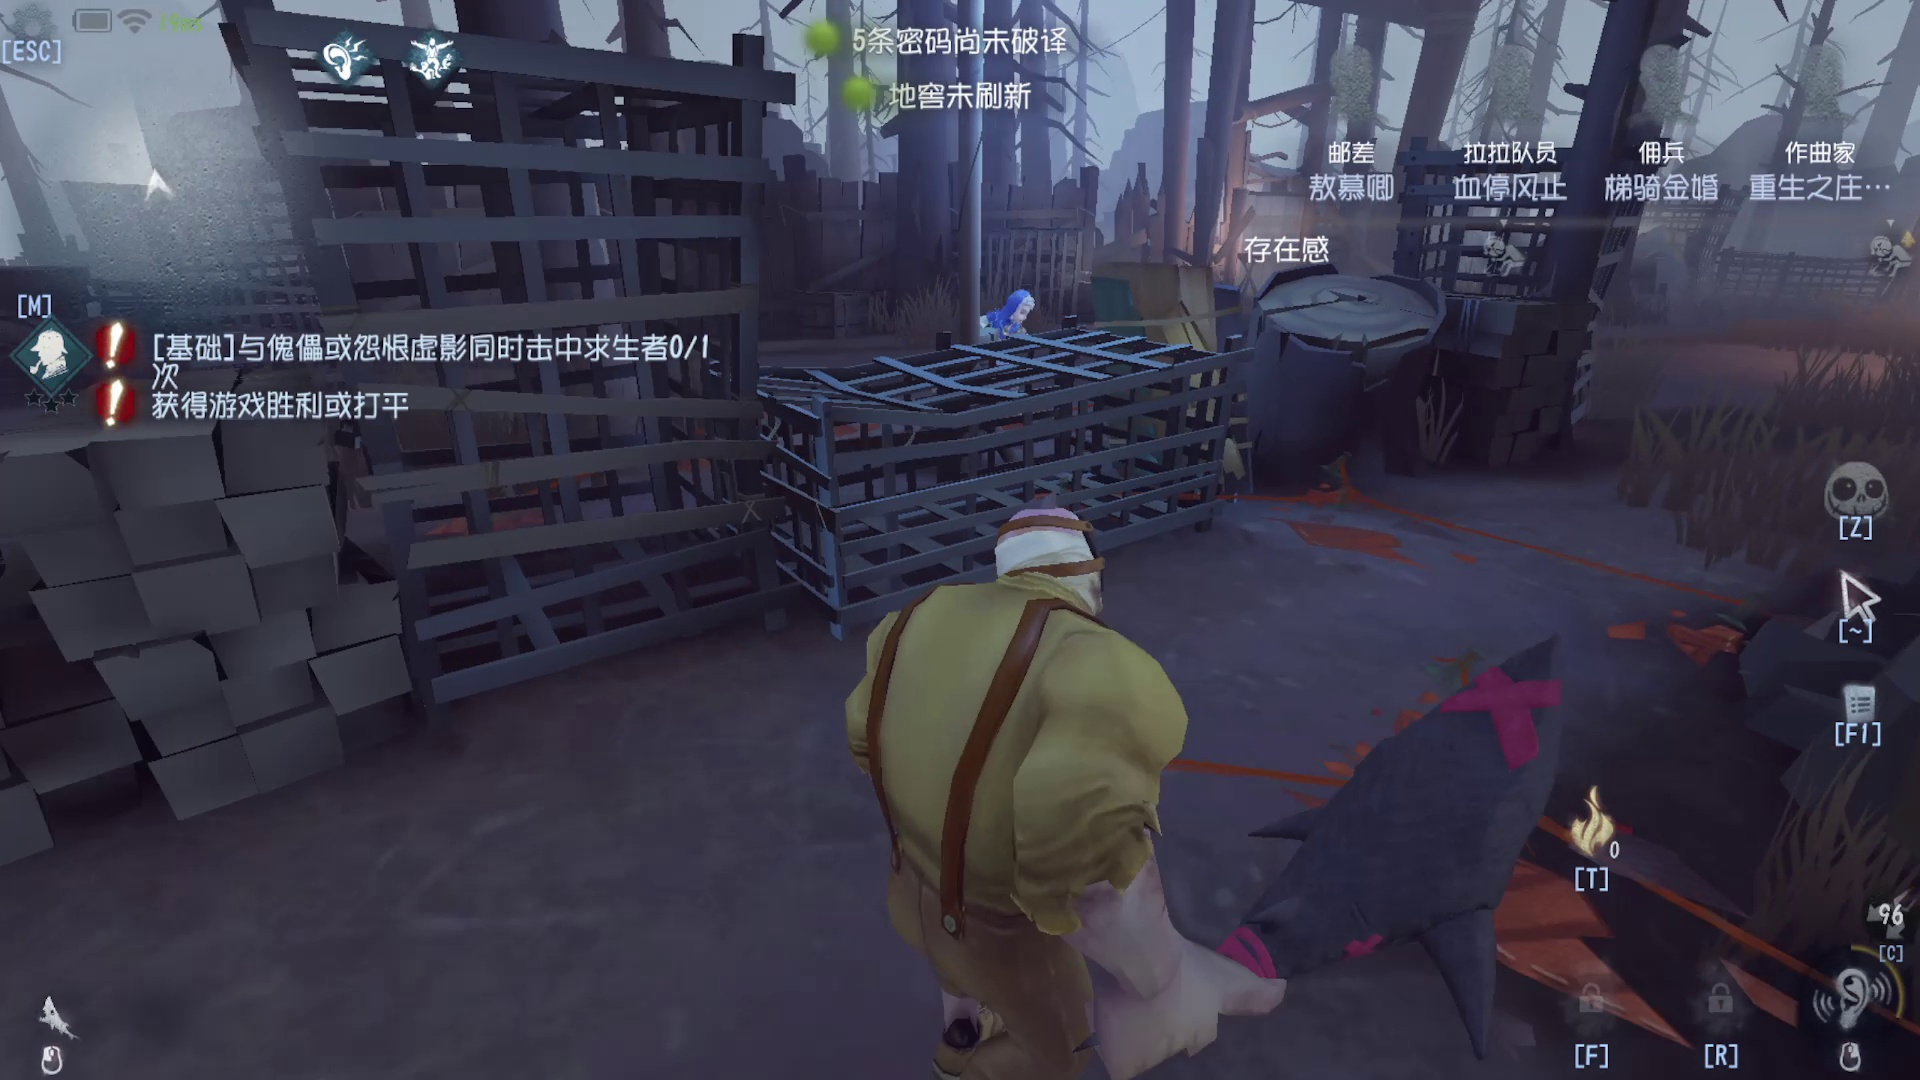木板: (1083, 247, 1266, 516)
求生者: (957, 276, 1055, 353)
脚印: (1298, 485, 1705, 666)
